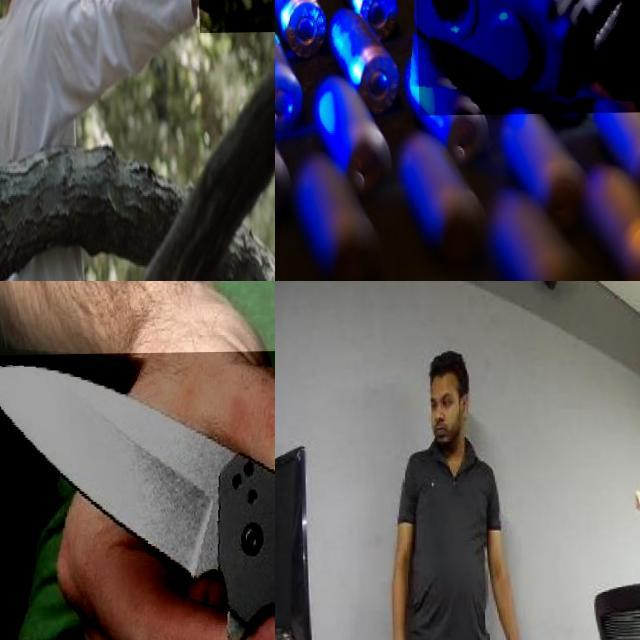-: (0, 350, 275, 640)
gun-knife-thesis - v11 Yolov5 augmented: (406, 0, 640, 232), (195, 0, 275, 70)
